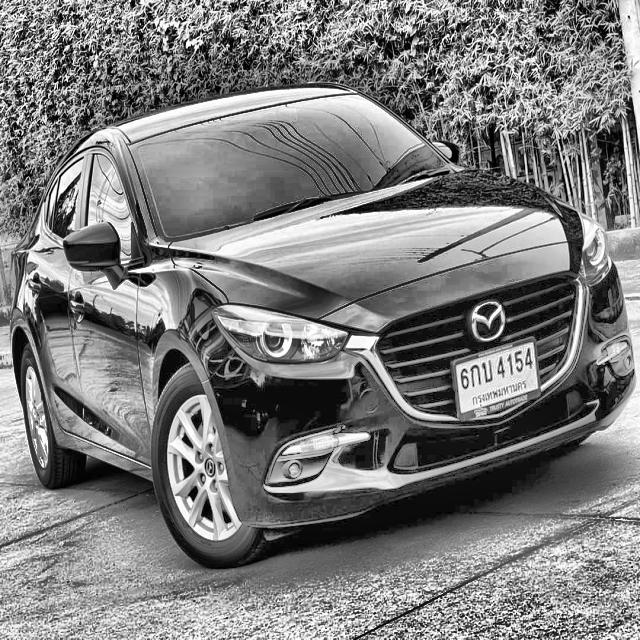license-plate: (449, 330, 544, 425)
